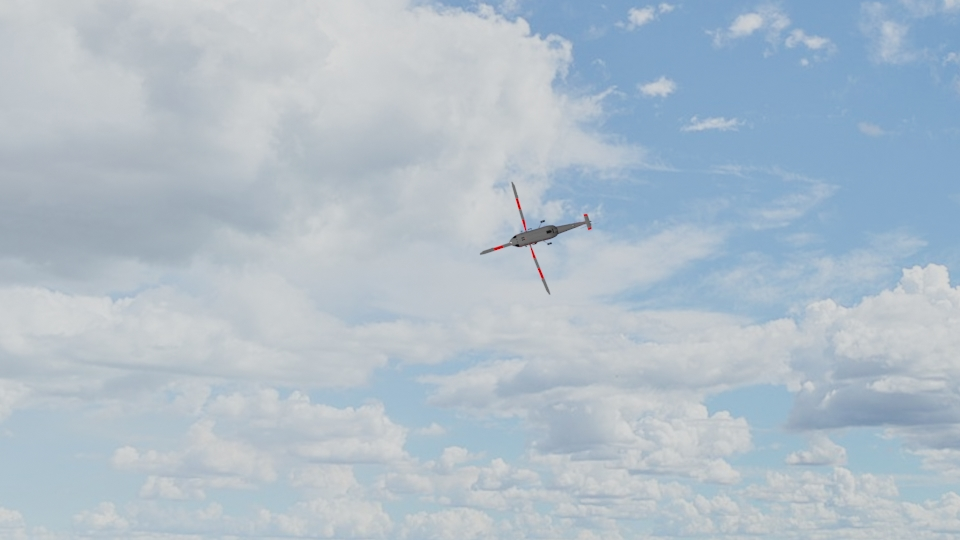heli: (481, 180, 595, 296)
